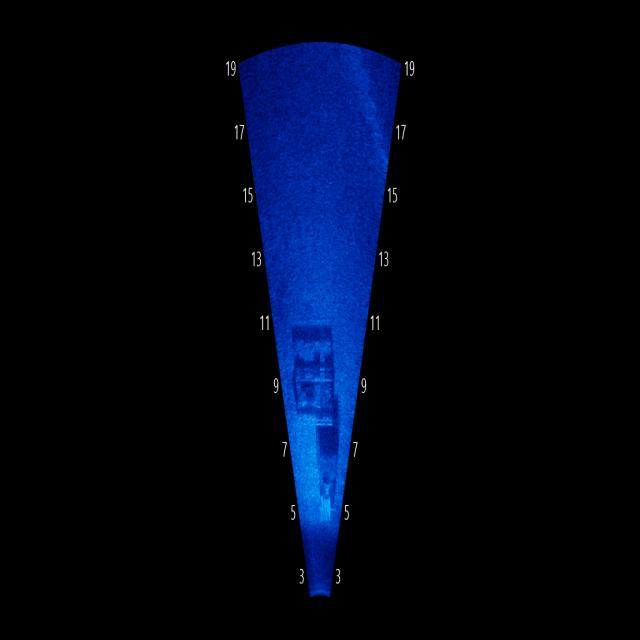square: (285, 307, 343, 422)
